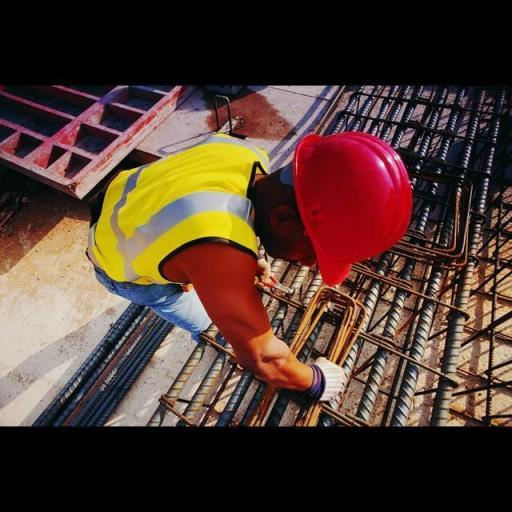Person: (54, 110, 424, 414)
gloves: (302, 346, 351, 405), (247, 252, 277, 290)
helmet: (294, 122, 411, 290)
vest: (87, 129, 270, 289)
